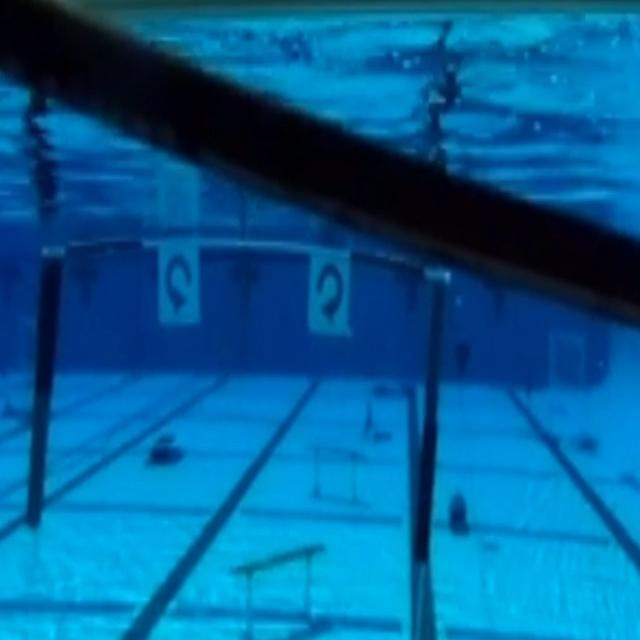Gate: (19, 212, 451, 576)
